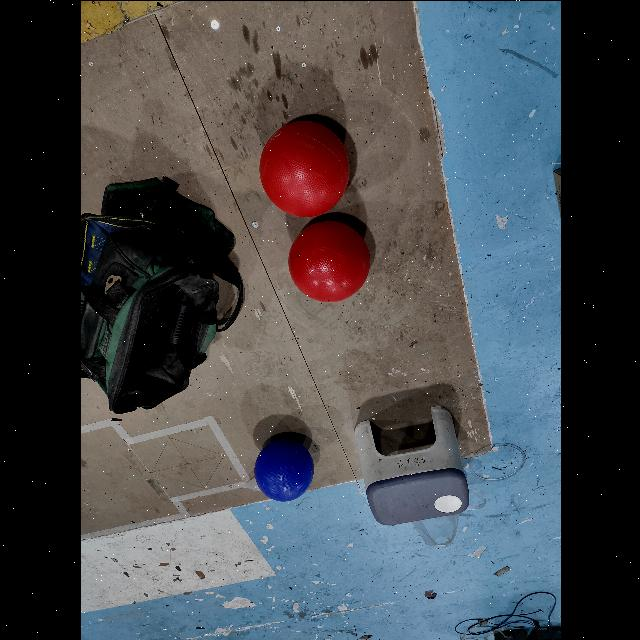B: (253, 436, 315, 502)
R: (258, 117, 350, 215), (286, 220, 370, 304)
